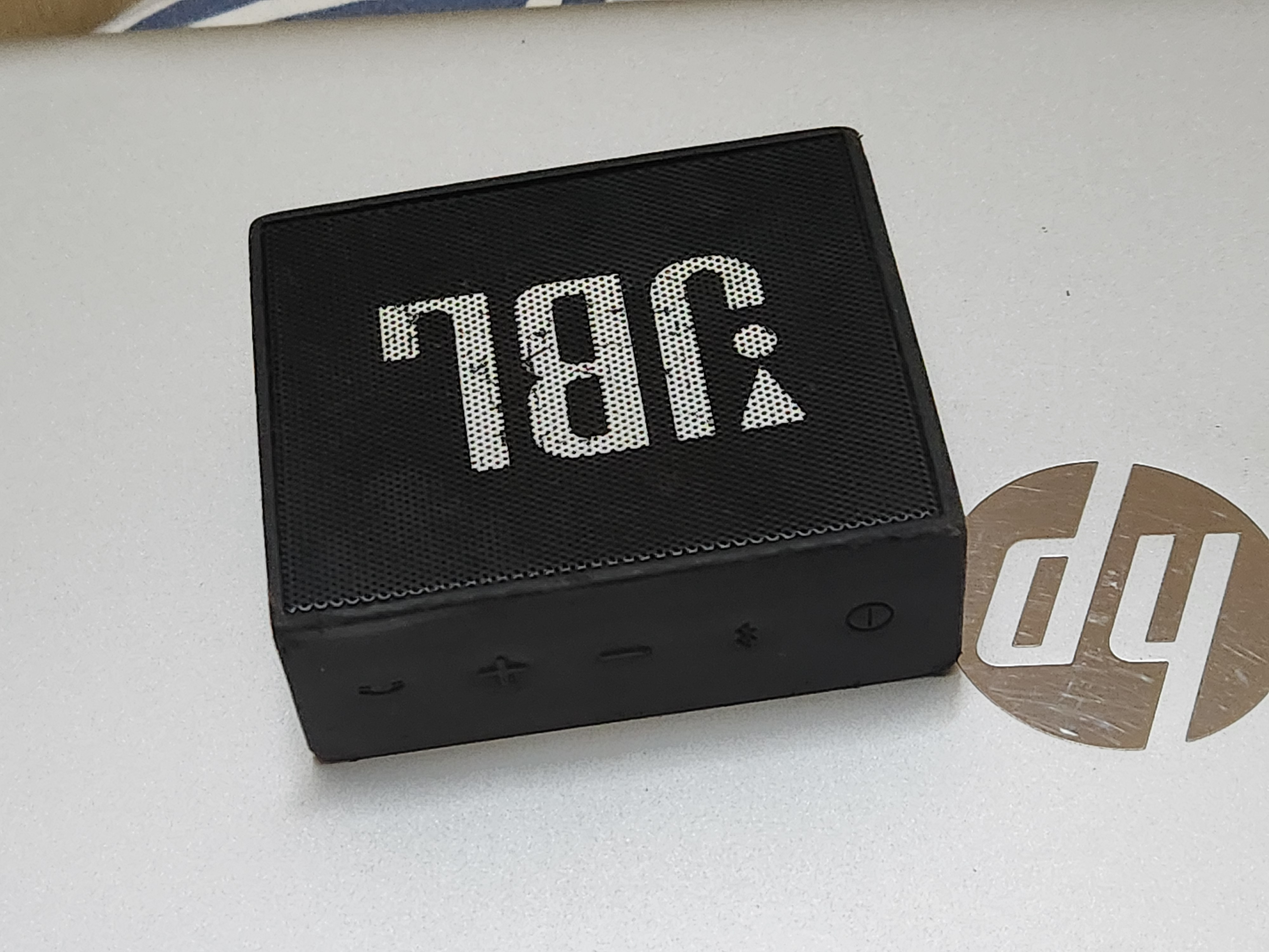speaker: (247, 124, 971, 763)
